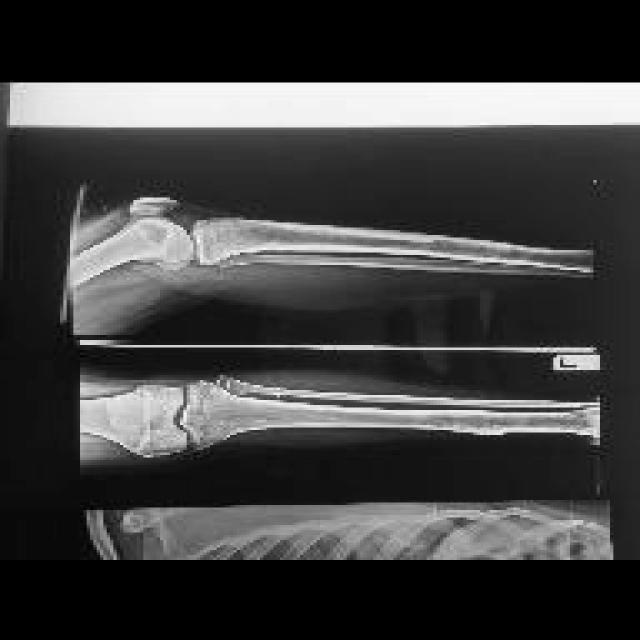bone-cancer: (397, 232, 565, 268), (398, 411, 558, 434)
